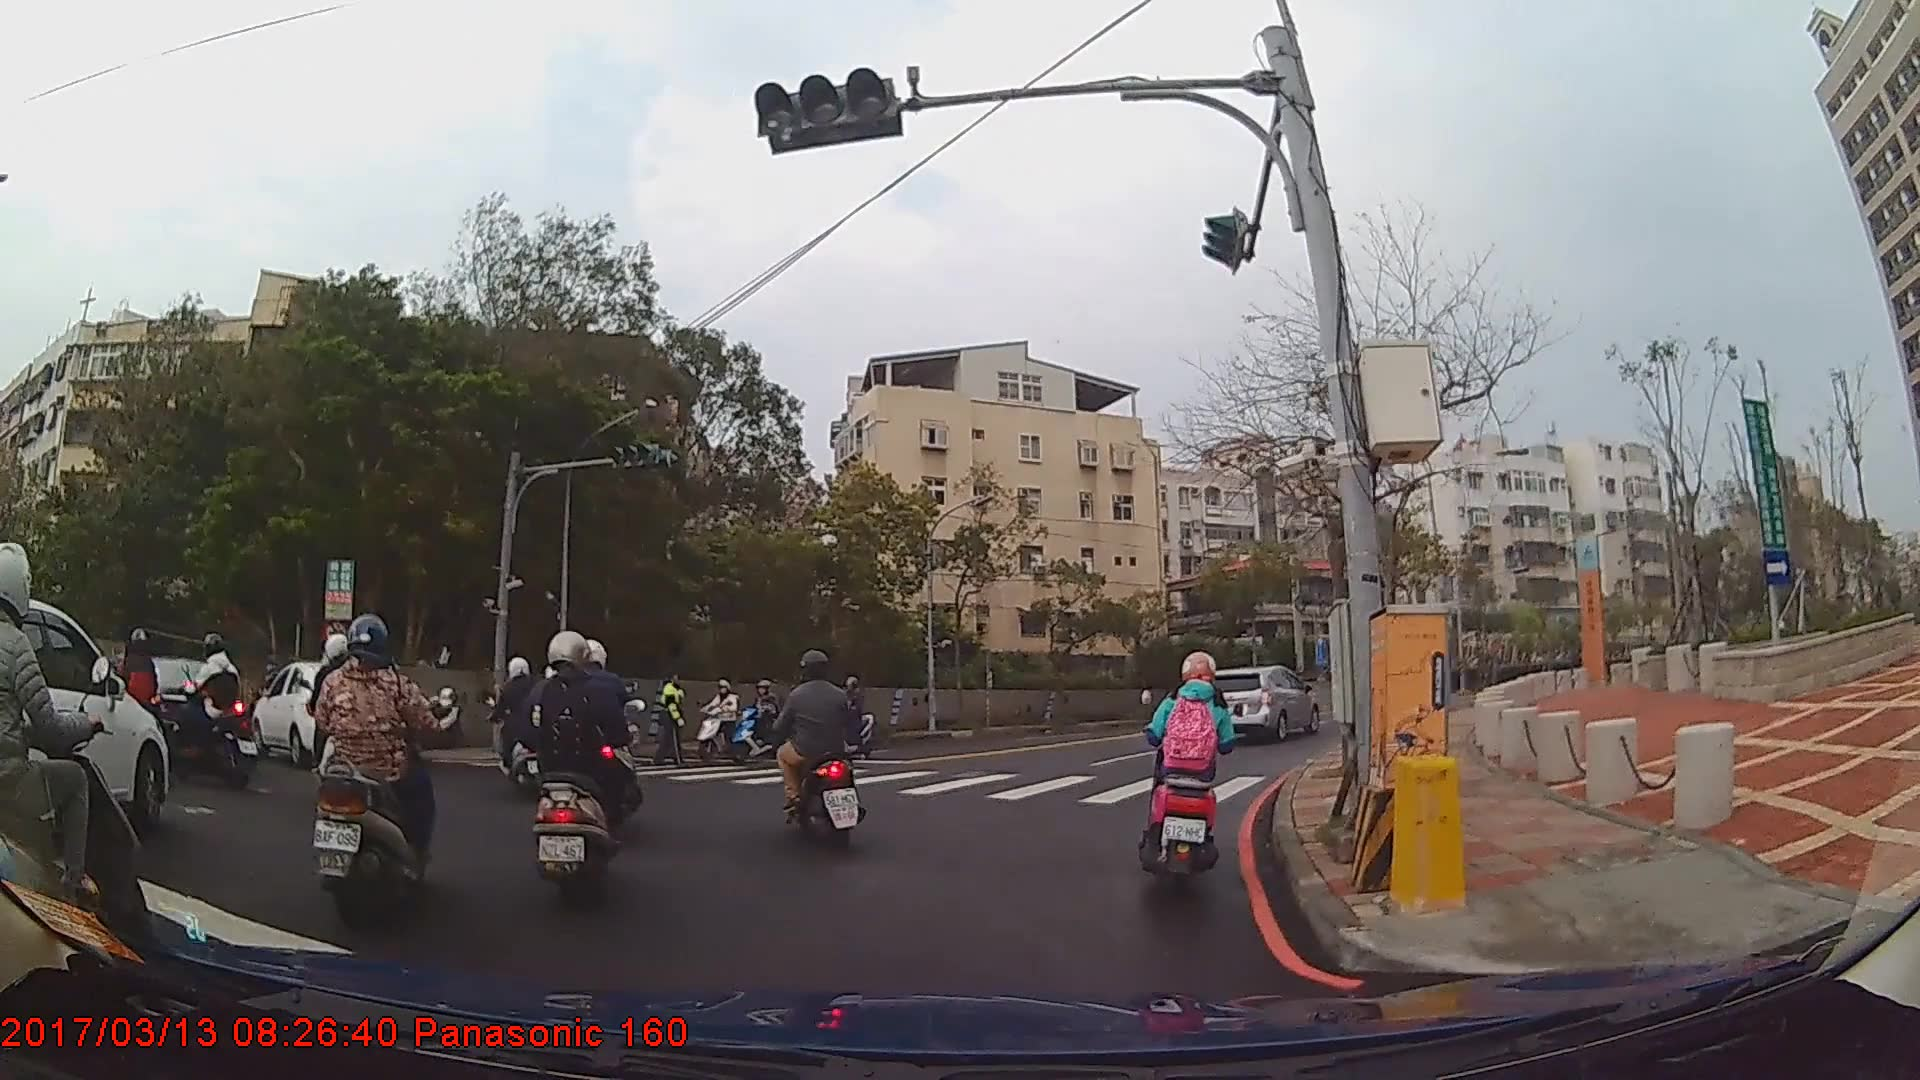pedestrian: (651, 671, 694, 773)
rider: (1, 545, 160, 1007), (305, 618, 441, 924), (516, 630, 633, 903), (1142, 650, 1239, 890), (771, 649, 868, 851), (561, 641, 642, 832), (481, 658, 559, 798), (178, 632, 246, 787), (106, 629, 168, 768), (733, 680, 792, 761), (822, 678, 877, 763), (696, 679, 748, 760)
vehicle: (0, 592, 167, 830), (251, 662, 381, 766), (1198, 664, 1319, 743)
